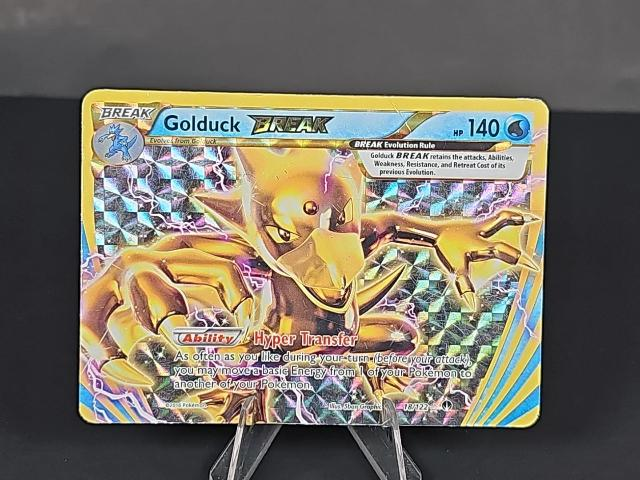Card: (75, 85, 551, 433)
Name: (162, 108, 338, 140)
